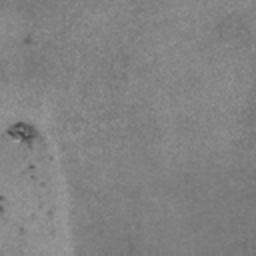Iron sheet ash: (4, 120, 32, 145)
